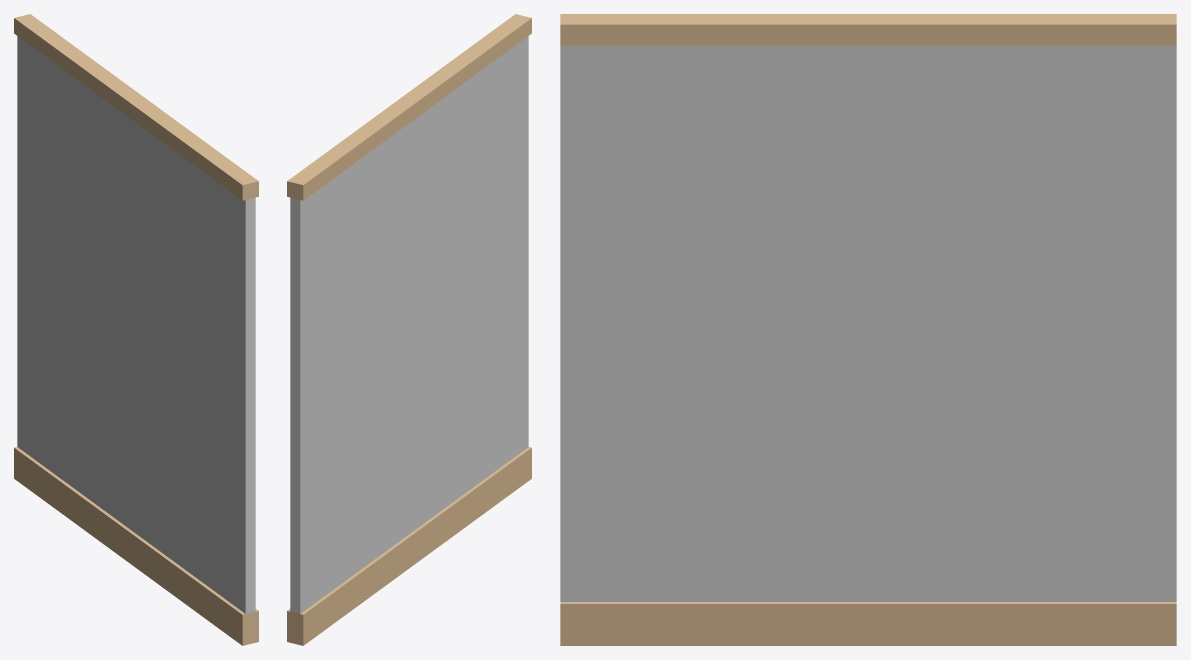
The model's file is GlassPane.fbx.
3 renders of one model, left to right at view 1: azimuth 30°, elevation 25°; view 2: azimuth 150°, elevation 25°; view 3: azimuth 270°, elevation 25°, orthographic. The views are drawn at different scales.
Visible parts, largest first — view 1: Cube; view 2: Cube; view 3: Cube.
Part boxes in pixels (box(x1,y1,x2,y2)): Cube: box(14, 14, 258, 645); Cube: box(287, 14, 531, 645); Cube: box(560, 14, 1176, 645).
Bounding box in the file's own units: 0.0825 × 2.23 × 2.
